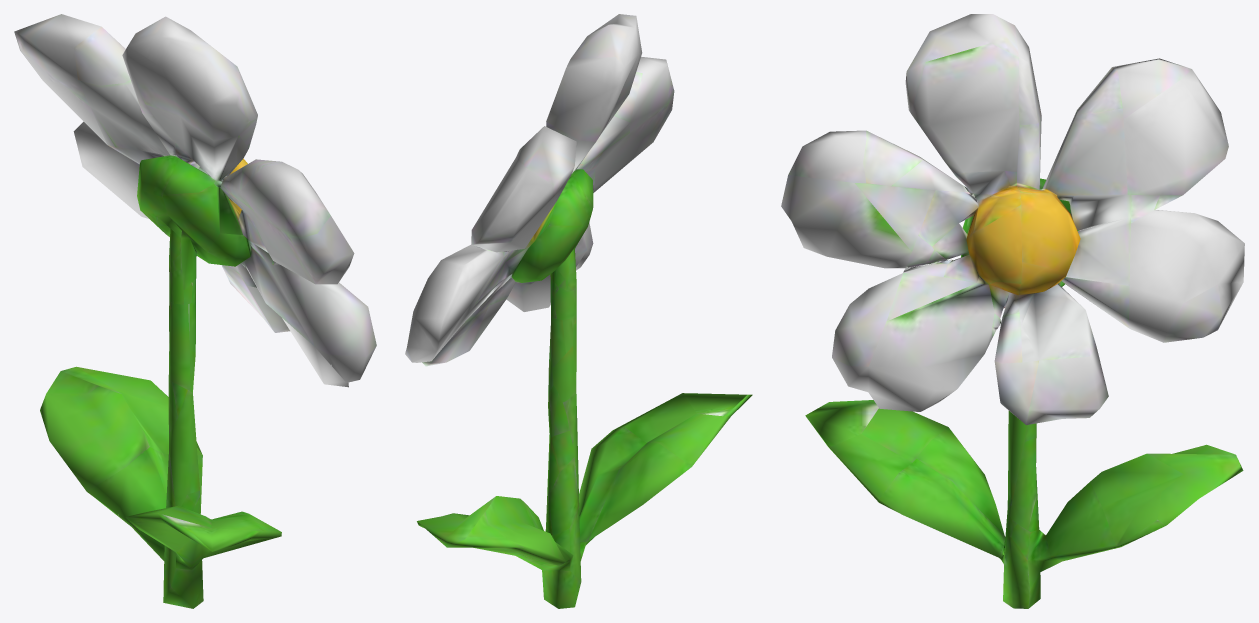
Rendered from daisy.glb.
The picture shows the model from 3 angles, left to right: view 1: azimuth 30°, elevation 25°; view 2: azimuth 150°, elevation 25°; view 3: azimuth 270°, elevation 25°; orthographic projection. The views are drawn at different scales.
Visible parts, largest first — view 1: tripo_node_3d0876c5-be20-4e4a-815f-adbfb64d3ddc; view 2: tripo_node_3d0876c5-be20-4e4a-815f-adbfb64d3ddc; view 3: tripo_node_3d0876c5-be20-4e4a-815f-adbfb64d3ddc.
Part boxes in pixels (<box>): tripo_node_3d0876c5-be20-4e4a-815f-adbfb64d3ddc: <box>14,14,376,608</box>; tripo_node_3d0876c5-be20-4e4a-815f-adbfb64d3ddc: <box>405,14,752,608</box>; tripo_node_3d0876c5-be20-4e4a-815f-adbfb64d3ddc: <box>781,14,1244,608</box>.
Size of the model in its own units: 0.3714 by 0.9769 by 0.718.
Materials: 1 (1 with a texture image).
